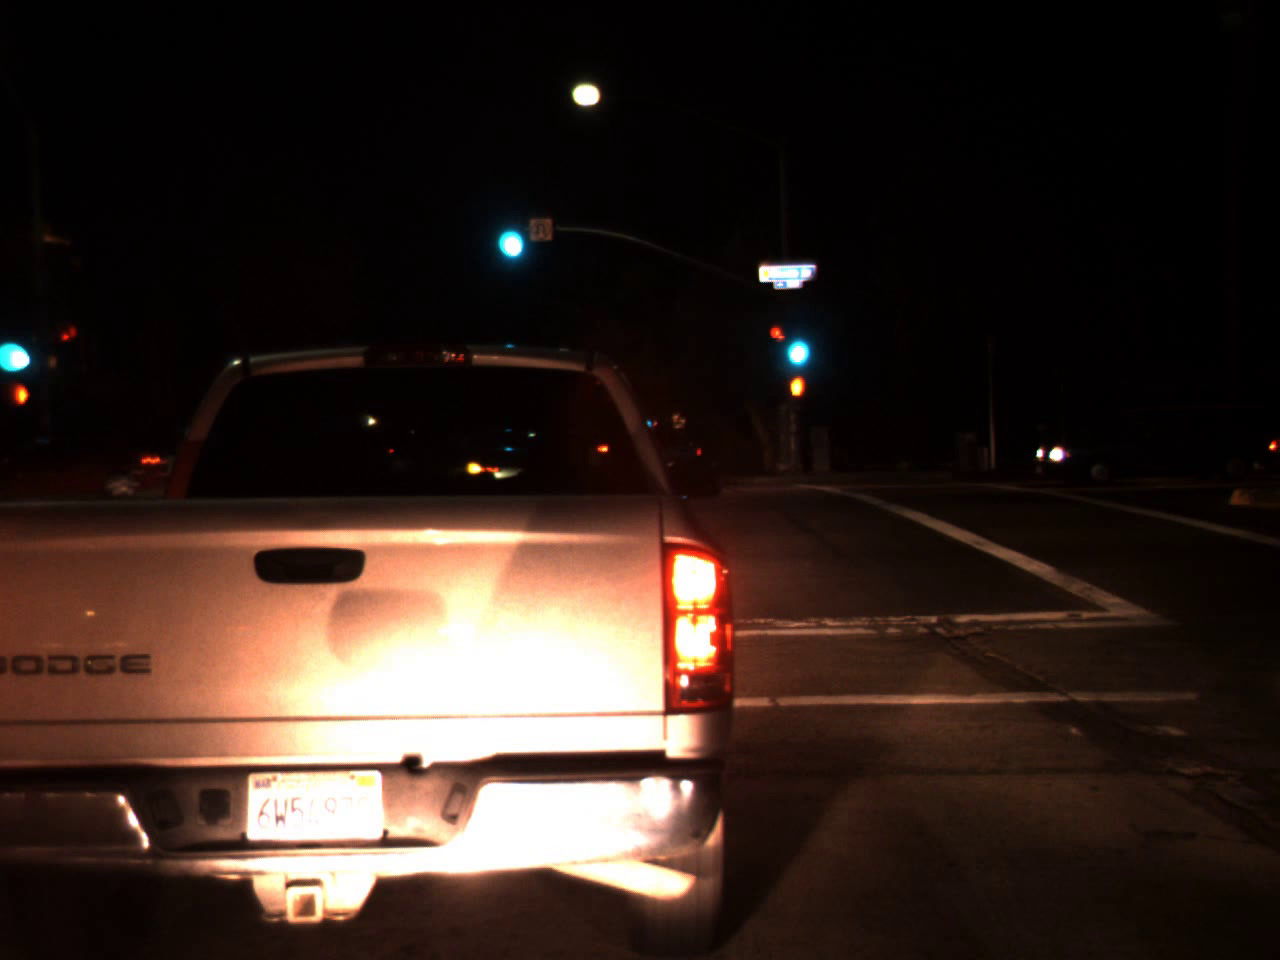go: (490, 198, 527, 267), (779, 311, 813, 374), (0, 315, 29, 378)
